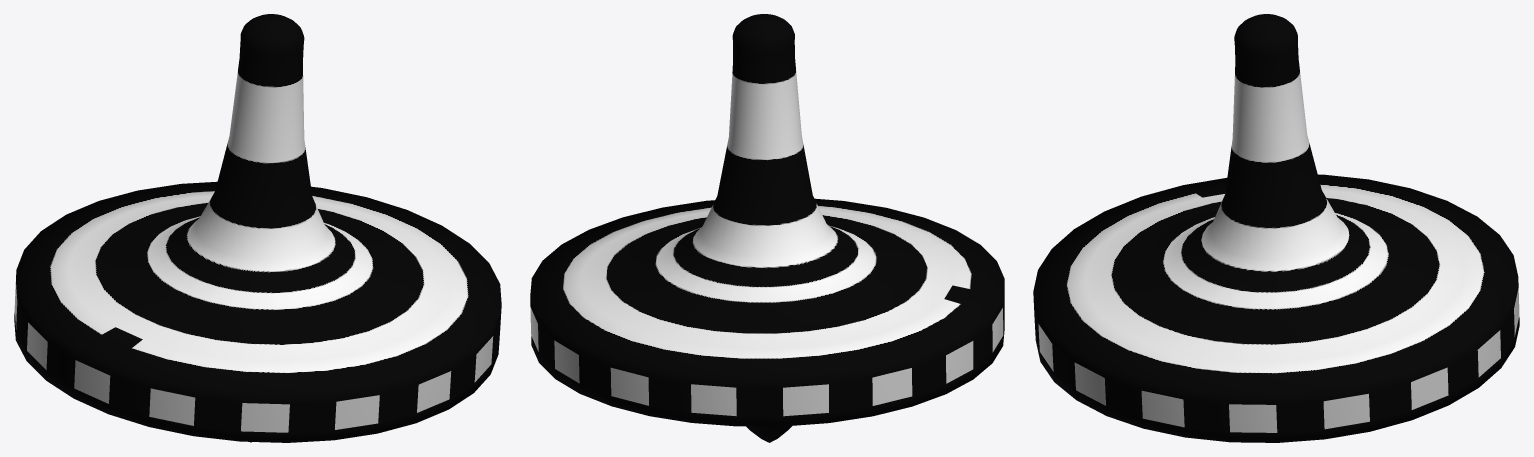
3 renders of one model, left to right at view 1: azimuth 30°, elevation 25°; view 2: azimuth 150°, elevation 25°; view 3: azimuth 270°, elevation 25°, orthographic. The views are drawn at different scales.
Parts seen in each view (by area): view 1: Cylinder; view 2: Cylinder; view 3: Cylinder.
Part boxes in pixels (x1,y1,x2,y2): Cylinder: (14, 14, 501, 442); Cylinder: (530, 14, 1004, 442); Cylinder: (1033, 14, 1519, 442).
Bounding box in the file's own units: 9.66 × 9.32 × 9.66.
Materials: 4 (3 with a texture image).
